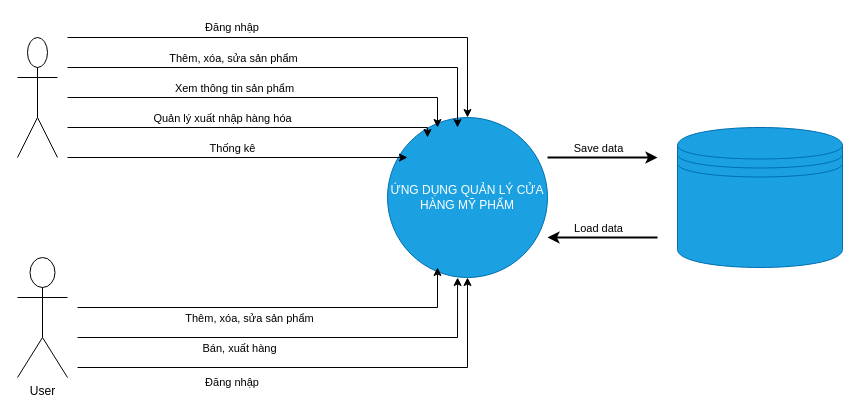
The diagram is 860 pixels wide and 415 high, and some of its shapes have lost their labels. The shapes that lost their labels are listed below. From the top down, each one's centre as x and y in pixels, then its label:
the point at 37,97: Admin
the point at 759,197: Database
